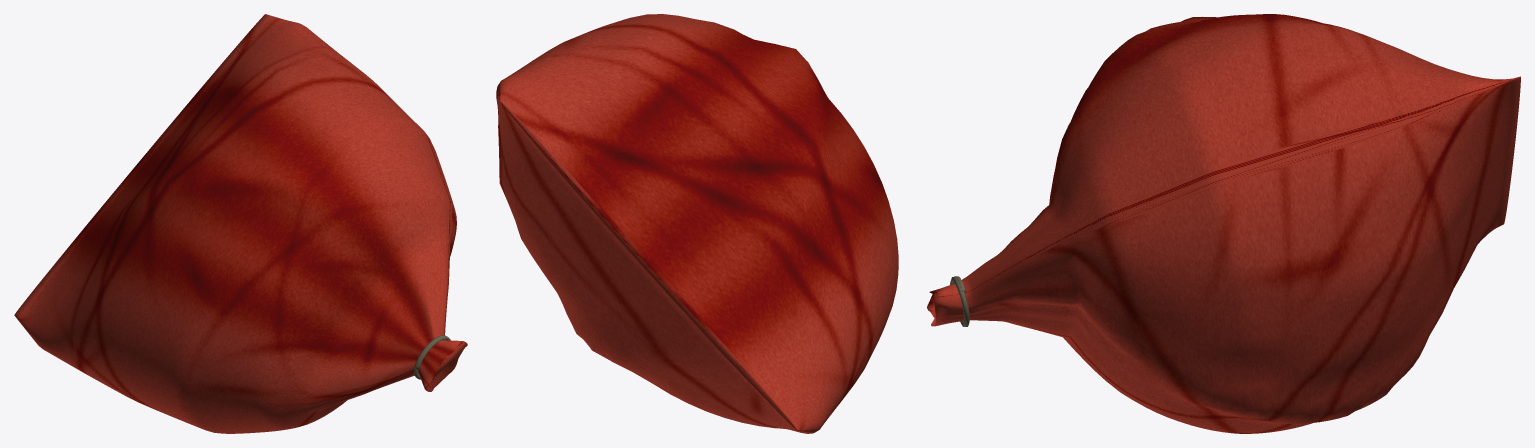
File: peach_00_001.glb
3 views of the same model, side by side, from view 1: azimuth 30°, elevation 25°; view 2: azimuth 150°, elevation 25°; view 3: azimuth 270°, elevation 25° (orthographic). The views are drawn at different scales.
Visible parts, largest first — view 1: export_Tree00/shoot0_2_1/bag; view 2: export_Tree00/shoot0_2_1/bag; view 3: export_Tree00/shoot0_2_1/bag.
Part boxes in pixels (x1=…): export_Tree00/shoot0_2_1/bag: x1=14, y1=14, x2=467, y2=433; export_Tree00/shoot0_2_1/bag: x1=496, y1=14, x2=898, y2=433; export_Tree00/shoot0_2_1/bag: x1=927, y1=14, x2=1520, y2=433.
Size of the model in its own units: 0.109 by 0.1 by 0.126.
Materials: 4 (1 with a texture image).
